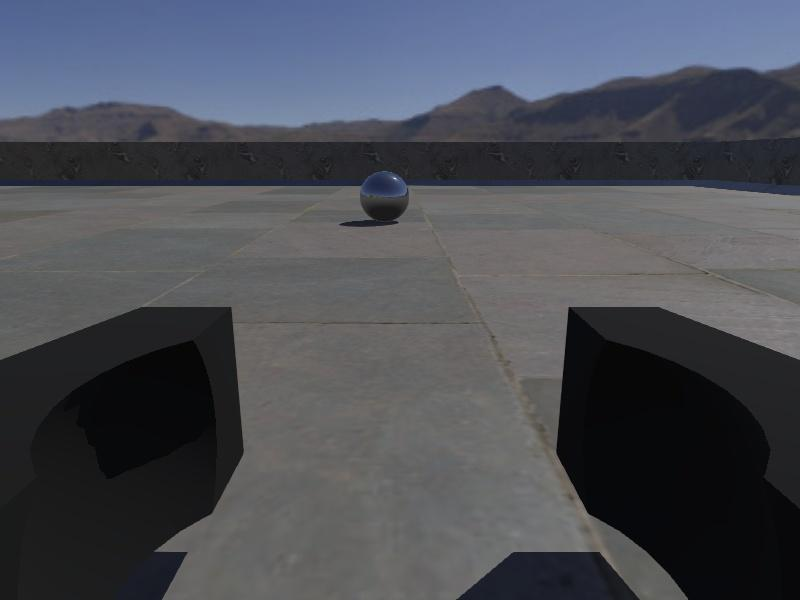steel ball: (358, 170, 410, 222)
